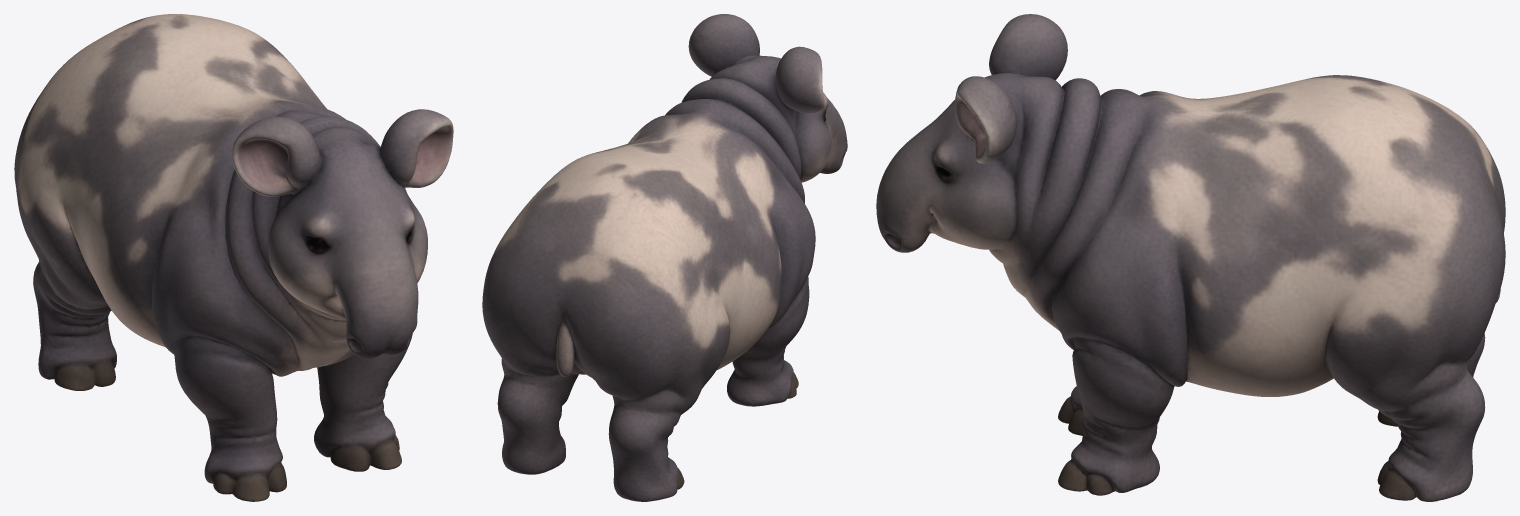
The model's file is generation_tapir_0.glb.
The picture shows the model from 3 angles, left to right: view 1: azimuth 30°, elevation 25°; view 2: azimuth 150°, elevation 25°; view 3: azimuth 270°, elevation 25°; orthographic projection. The views are drawn at different scales.
Parts seen in each view (by area): view 1: geometry_0; view 2: geometry_0; view 3: geometry_0.
Part boxes in pixels (left/top/right/bottom): geometry_0: left=14, top=14, right=453, bottom=501; geometry_0: left=482, top=14, right=847, bottom=501; geometry_0: left=876, top=14, right=1505, bottom=501.
Size of the model in its own units: 0.5081 by 0.7062 by 1.
Materials: 1 (1 with a texture image).
